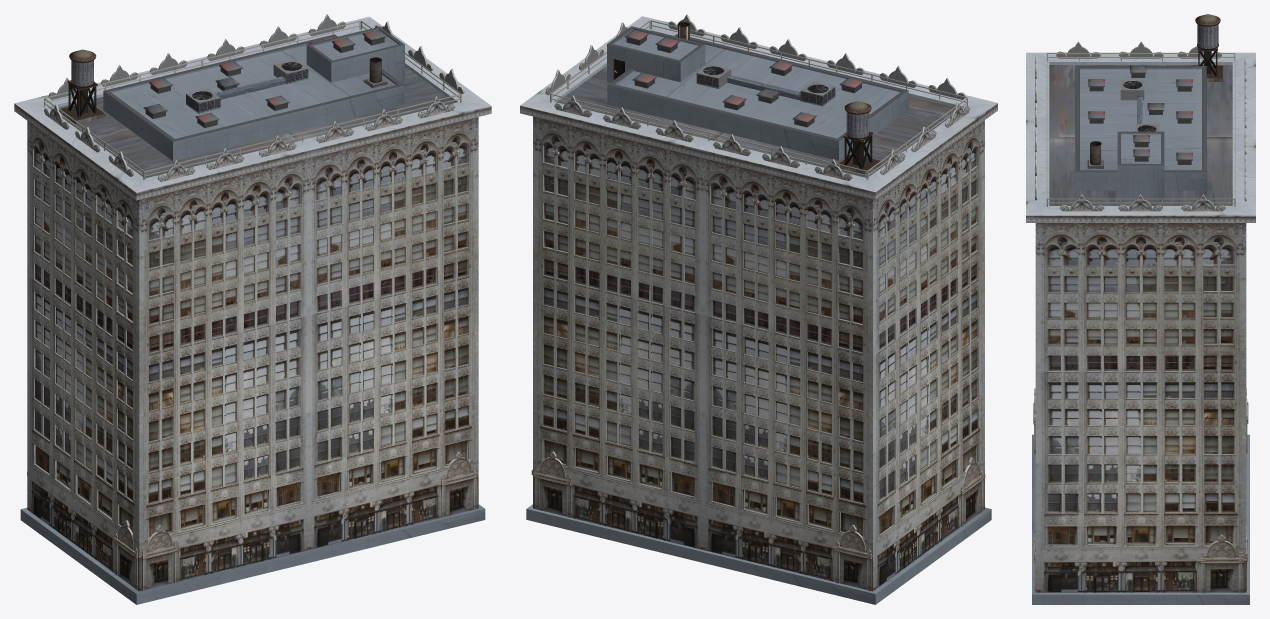
File: bayard_building.glb
3 views of the same model, side by side, from view 1: azimuth 30°, elevation 25°; view 2: azimuth 150°, elevation 25°; view 3: azimuth 270°, elevation 25° (orthographic). The views are drawn at different scales.
Visible parts, largest first — view 1: Object_4; view 2: Object_4; view 3: Object_4.
Part boxes in pixels (x1,y1,x2,y2): Object_4: (14, 14, 491, 604); Object_4: (520, 14, 997, 604); Object_4: (1026, 14, 1255, 604).
Bounding box in the file's own units: 33.22 × 42.64 × 19.77.
Materials: 1 (1 with a texture image).
